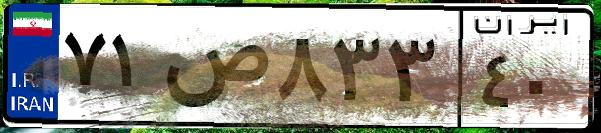0: (525, 38, 570, 115)
1: (110, 28, 158, 98)
3: (385, 28, 445, 110), (330, 28, 385, 110)
4: (475, 38, 525, 113)
7: (57, 26, 110, 100)
8: (270, 28, 330, 110)
ص: (158, 20, 270, 120)
